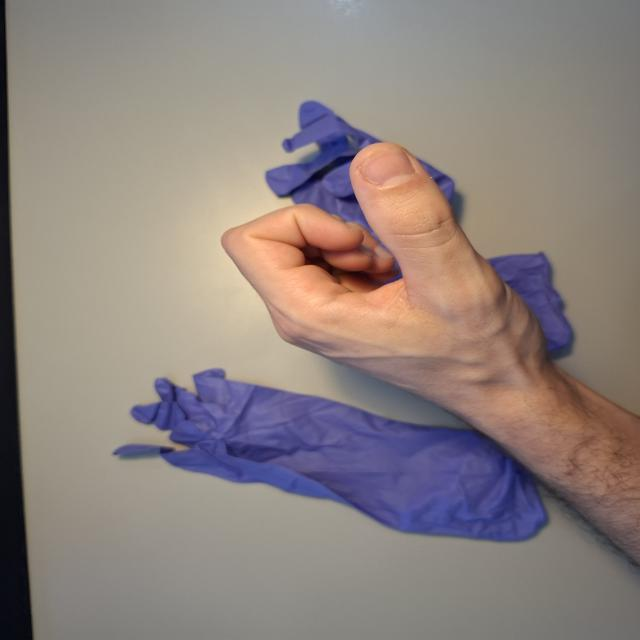glove_off: (216, 140, 575, 402)
